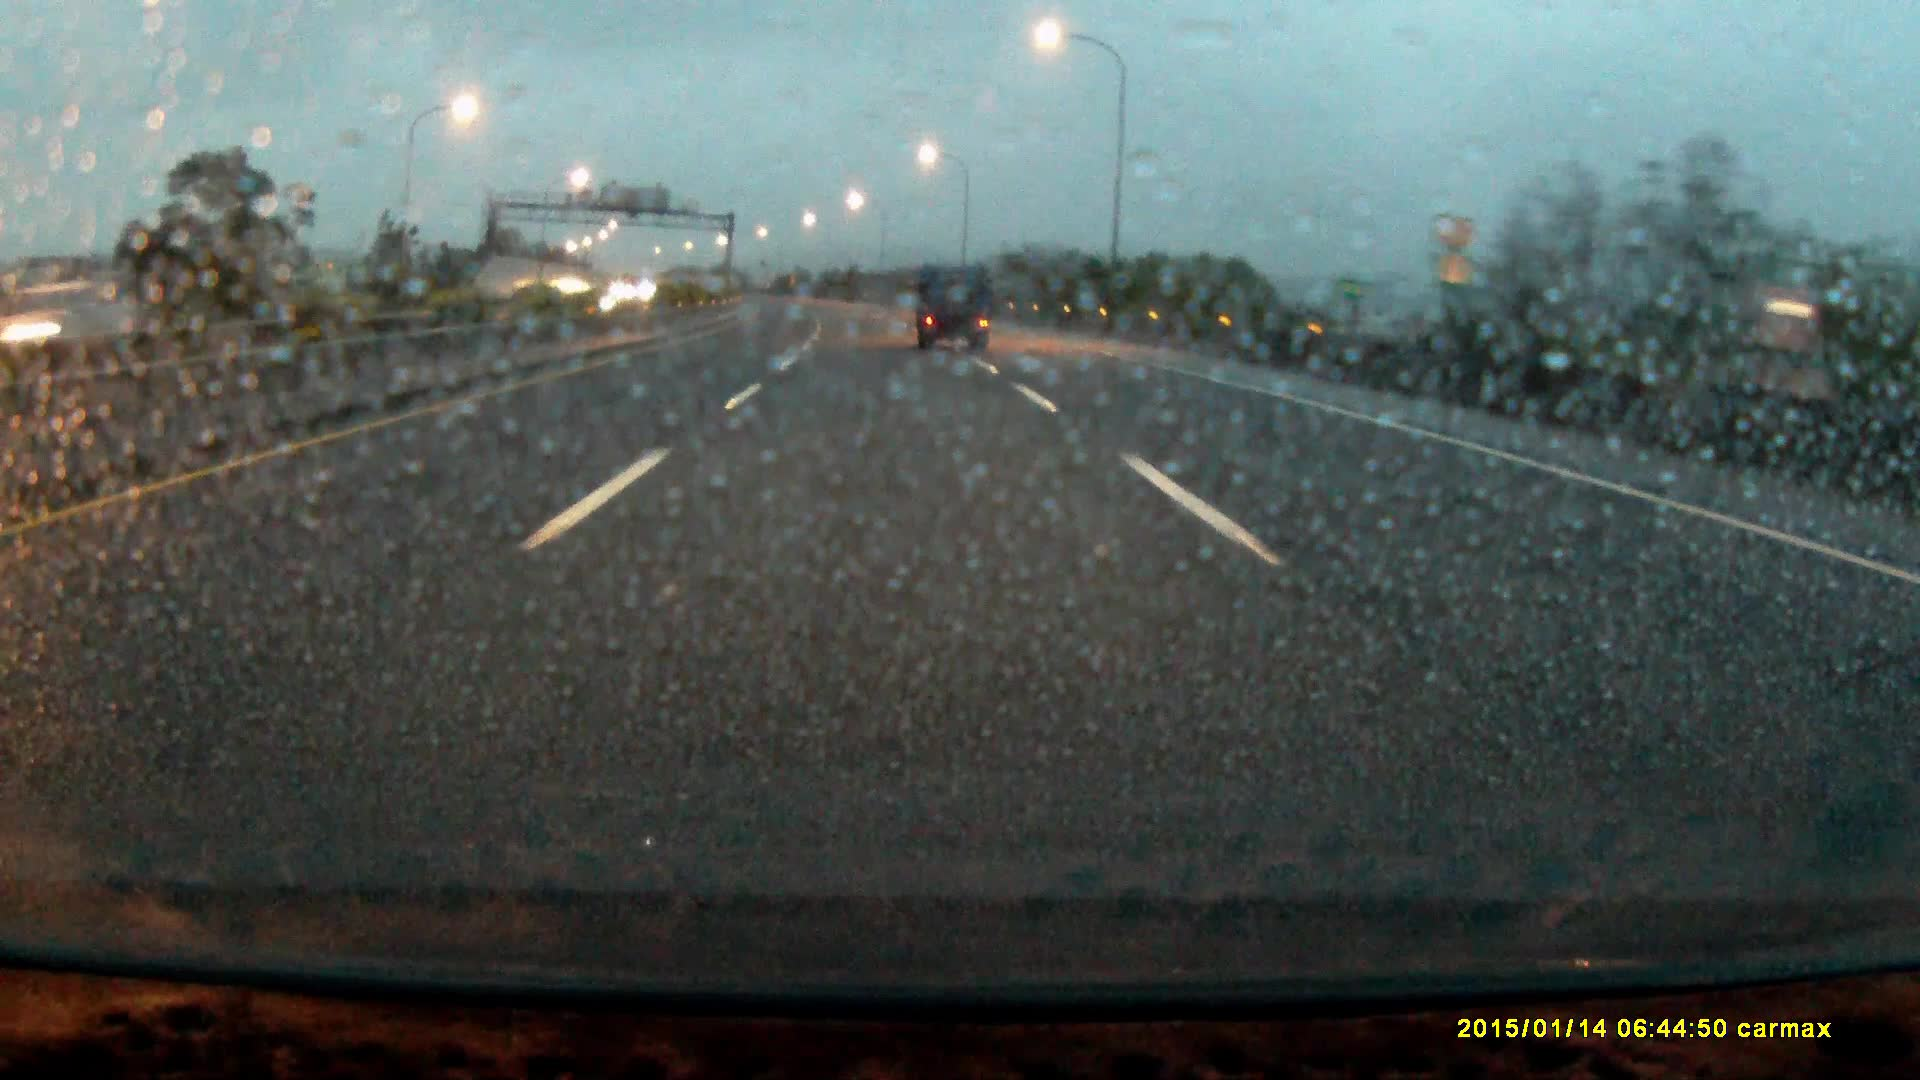vehicle: (915, 272, 996, 356)
